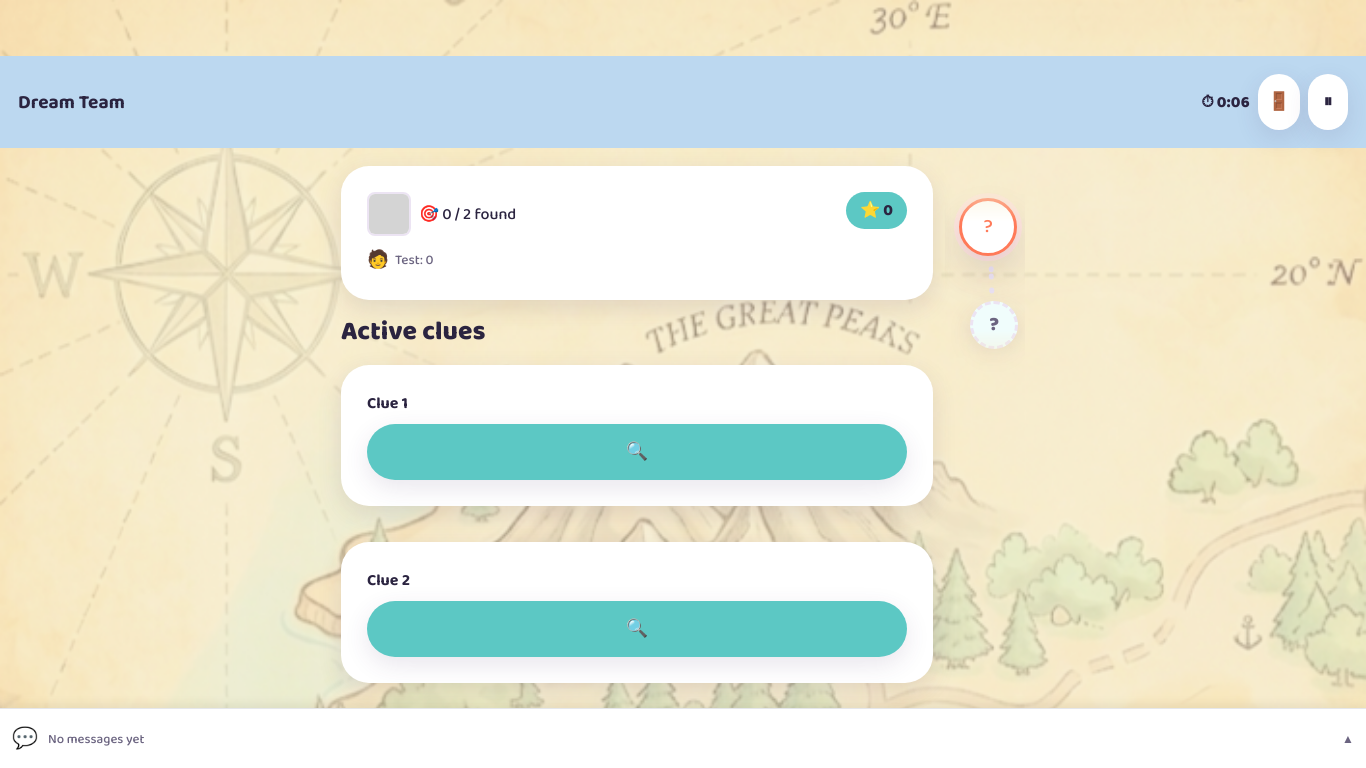
it: TeamHuntPlayer – riddle items › shows a text input when a riddle item is focused, not a photo-file input
// Click the first item button (riddle-1 — first in session.steps order)
What coordinates should you click on to do the following:
click the button named "Hunt this one"
I would click on:
 (637, 452)
Its box is [367,424,907,480].
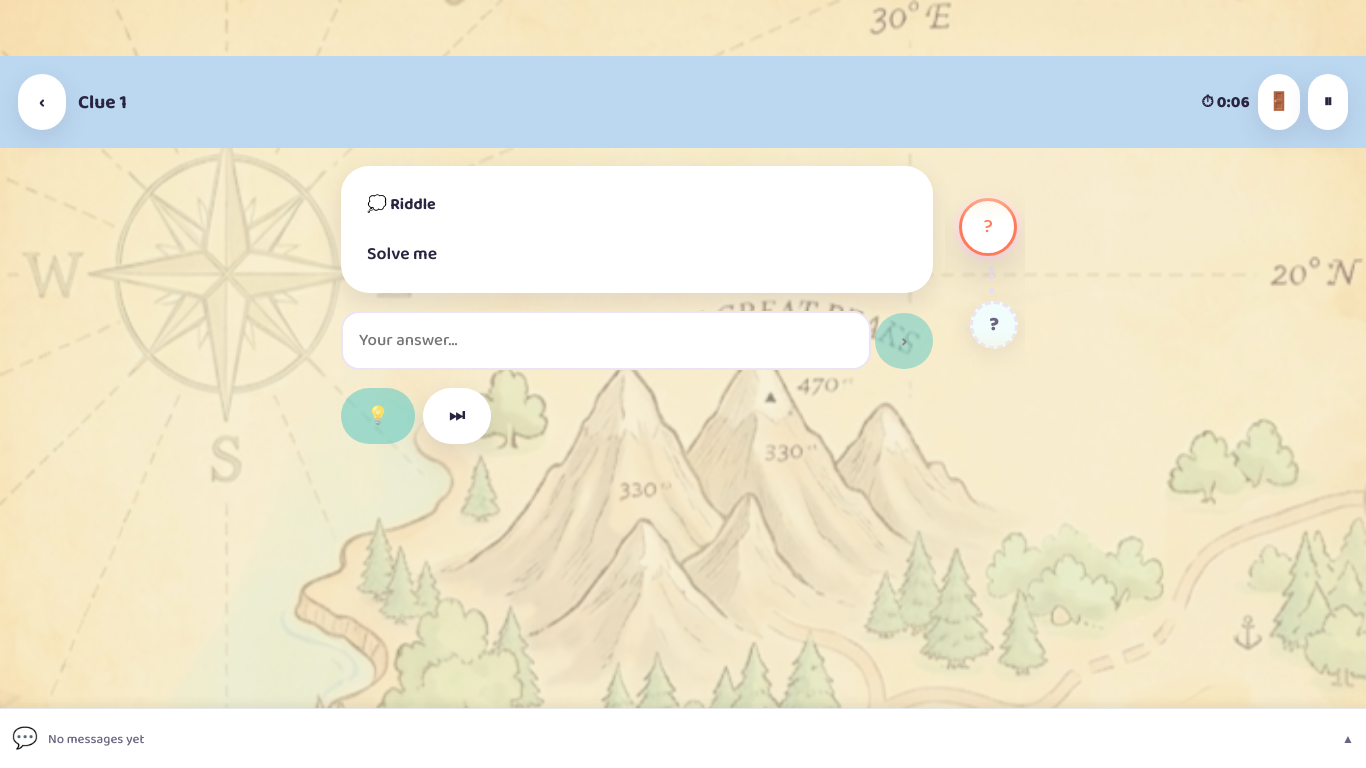
Expected: the field with placeholder "Your answer…" is shown, [341,311,872,370]
